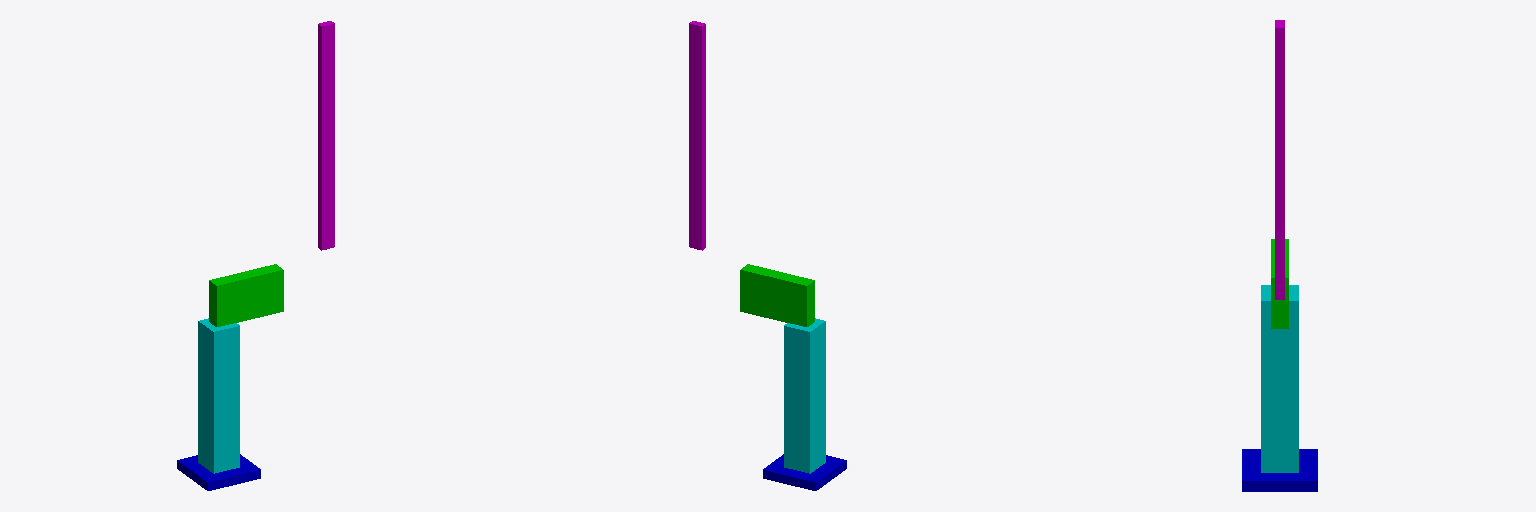
robot.urdf — snackbot:
<?xml version="1.0"?>
<robot name="snackbot">
  <link name="base_link">
    <visual name="base_link_visual1">
      <origin xyz="0.05 0.05 0.0078" rpy="0 0 0"/>
      <geometry>
        <box size="0.1 0.1 0.0156"/>
      </geometry>
      <material name="blue">
        <color rgba="0 0 0.8 1"/>
      </material>
    </visual>
    <visual name="base_link_visual2">
      <origin xyz="0.05 0.05 0.1421" rpy="0 0 0"/>
      <geometry>
        <box size="0.05 0.05 0.253"/>
      </geometry>
      <material name="cyan">
        <color rgba="0 0.8 0.8 1"/>
      </material>
    </visual>
  </link>

  <joint name="joint1" type="revolute">
    <parent link="base_link"/>
    <child link="link1"/>
    <origin xyz="0.050 0.050 0.268" rpy="0 0 0"/>
    <axis xyz="0 0 1"/>
    <limit lower="-1.57" upper="1.57" effort="10" velocity="10"/>
  </joint>

  <link name="link1">
    <visual name="link1_visual">
      <origin xyz="0.0505 0 0.0375" rpy="0 0 0"/>
      <geometry>
        <box size="0.125 0.025 0.075"/>
      </geometry>
      <material name="green">
        <color rgba="0 0.8 0 1"/>
      </material>
    </visual>
  </link>

  <joint name="joint2" type="revolute">
    <parent link="link1"/>
    <child link="link2"/>
    <origin xyz="0.100 0 0.075" rpy="0 0 0"/>
    <axis xyz="0 0 1"/>
    <limit lower="-2.09" upper="2.09" effort="10" velocity="10"/>
  </joint>

  <link name="link2">
    <visual name="link2_visual">
      <origin xyz="0 0 0" rpy="0 0 0"/>
      <geometry>
        <!-- <box size="0.100 0.025 0.057"/> -->
        <mesh filename="package://rfp_snackbot/models/snackbot/link_2_manual.stl"/>
      </geometry>
      <material name="yellow">
        <color rgba="0.8 0.8 0 1"/>
      </material>
    </visual>
  </link>

  <joint name="joint3" type="prismatic">
    <parent link="link2"/>
    <child link="link3"/>
    <origin xyz="0.100 0 0.042" rpy="0 0 0"/>
    <axis xyz="0 0 1"/>
    <limit lower="-0.345" upper="0" effort="10" velocity="10"/>
  </joint>

  <link name="link3">
    <visual name="link3_visual">
      <origin xyz="0 0 0.172" rpy="0 0 0"/>
      <geometry>
        <box size="0.025 0.0125 0.40"/>
      </geometry>
      <material name="magenta">
        <color rgba="0.8 0 0.8 1"/>
      </material>
    </visual>
  </link>

  <joint name="ee_joint" type="fixed">
    <parent link="link3"/>
    <child link="ee"/>
    <origin xyz="0.0 0 -0.028" rpy="0 0 0"/>
  </joint>

  <link name="ee">
    <visual name="ee">
      <origin xyz="0 0 0" rpy="0 0 0"/>
      <geometry>
        <box size="0.005 0.005 0.005"/>
      </geometry>
      <material name="bright_blue">
        <color rgba="0 0 1.0 1"/>
      </material>
    </visual>
  </link>
</robot>

--- Render facts (derived) ---
The picture shows the robot from 3 angles, left to right: view 1: azimuth 30°, elevation 25°; view 2: azimuth 150°, elevation 25°; view 3: azimuth 270°, elevation 25°; orthographic projection.
Robot: snackbot — 5 links, 4 joints (2 revolute, 1 prismatic, 1 fixed); root link base_link; default pose: all joints at 0.
Visible links, largest first — view 1: base_link, link3, link1; view 2: base_link, link3, link1; view 3: base_link, link3, link1.
Link boxes in pixels (x1,y1,x2,y2): base_link: (177, 318, 260, 490); link3: (318, 21, 334, 250); link1: (209, 264, 283, 326); base_link: (763, 318, 846, 490); link3: (689, 21, 705, 250); link1: (740, 264, 814, 326); base_link: (1242, 285, 1317, 491); link3: (1275, 20, 1284, 299); link1: (1271, 239, 1288, 328).
Bounding box of the posed robot: 0.2625 × 0.1 × 0.757 m (x, y, z).
0 mesh visuals loaded from 1 distinct referenced files (none loaded); not drawn: 1 (reference not matched to a file when rendering).
